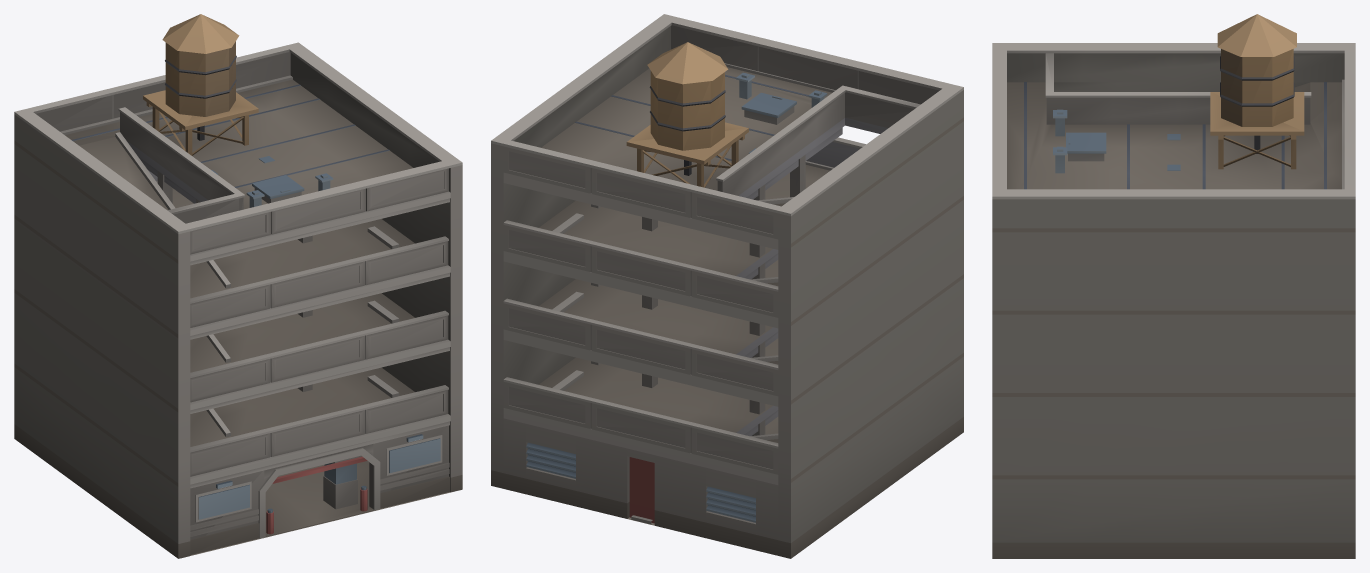
The model's file is garage.glb.
3 renders of one model, left to right at view 1: azimuth 30°, elevation 25°; view 2: azimuth 150°, elevation 25°; view 3: azimuth 270°, elevation 25°, orthographic. The views are drawn at different scales.
Visible parts, largest first — view 1: garage; view 2: garage; view 3: garage.
Boxes of the visible parts, left/top/right/bottom form: garage: left=14, top=14, right=462, bottom=558; garage: left=491, top=14, right=963, bottom=558; garage: left=992, top=14, right=1355, bottom=558.
Size of the model in its own units: 12 by 17.06 by 12.
